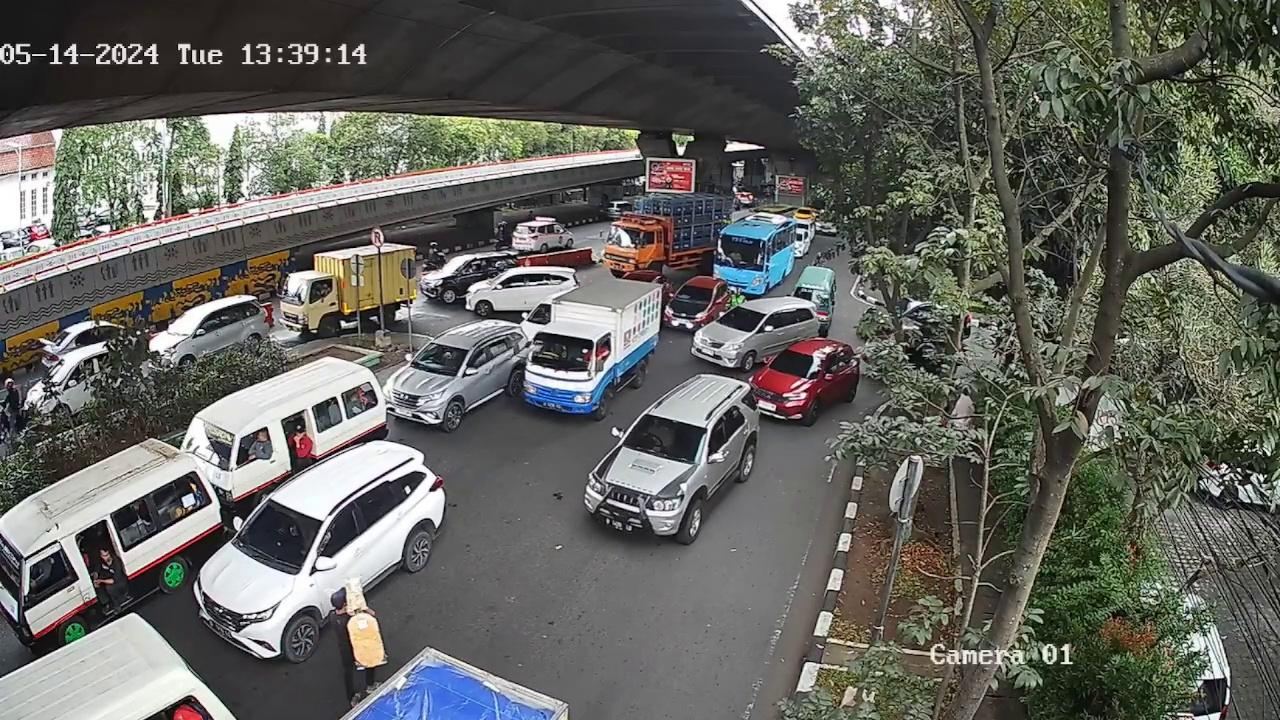tidak-pakai: (648, 422, 673, 448)
windshield: (228, 501, 327, 563), (627, 417, 708, 461), (526, 333, 614, 370), (184, 419, 238, 467), (410, 337, 464, 375), (770, 346, 830, 380), (716, 299, 766, 335), (677, 287, 714, 303)
